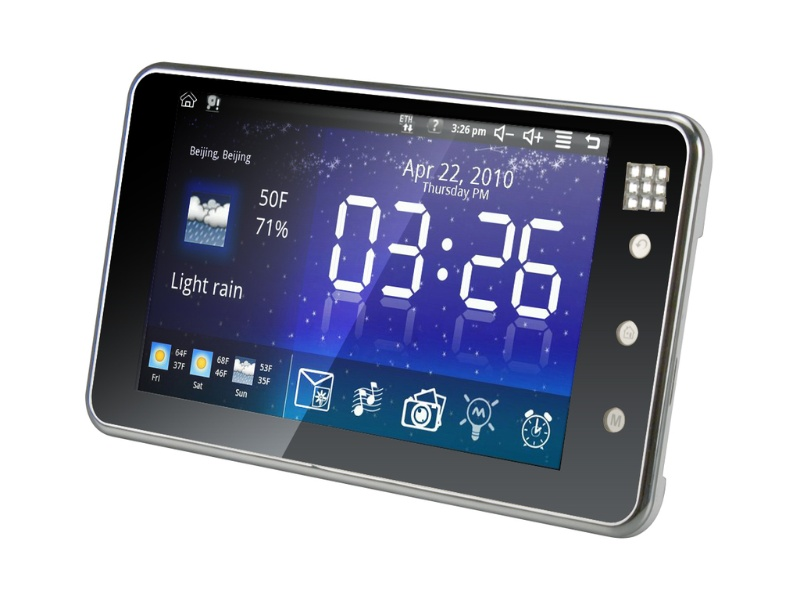cellphone: (79, 69, 722, 549)
